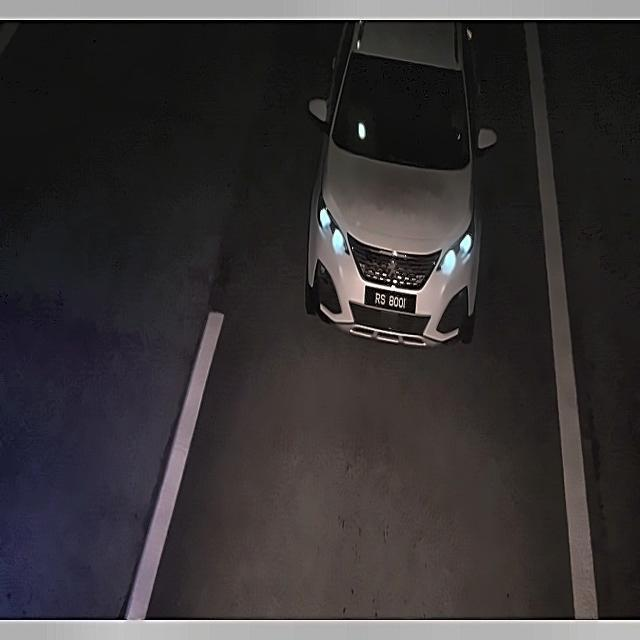car: (362, 278, 418, 322)
